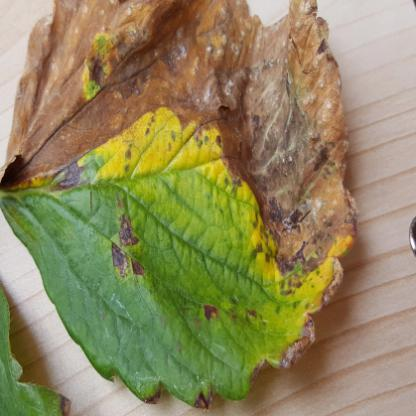Strawberry_Angular_LeafSpot: (0, 0, 358, 410)
